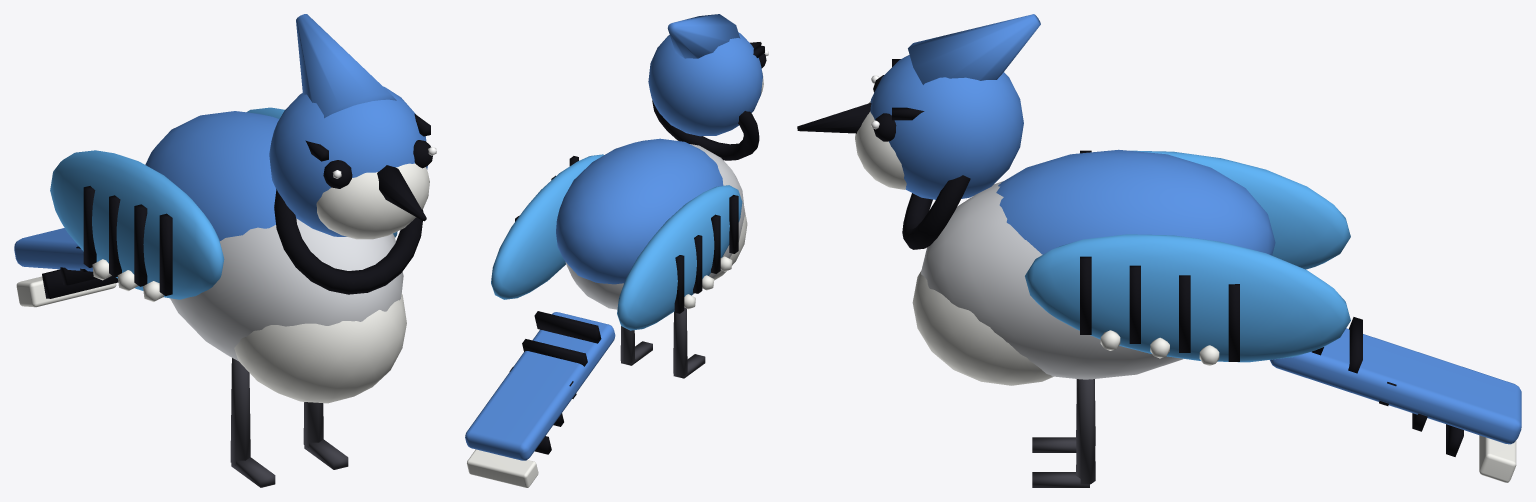
Rendered from bluejay.glb.
3 renders of one model, left to right at view 1: azimuth 30°, elevation 25°; view 2: azimuth 150°, elevation 25°; view 3: azimuth 270°, elevation 25°, orthographic. The views are drawn at different scales.
Visible parts, largest first — view 1: jay_body, jay_wingm, jay_back, jay_headm, jay_belly, jay_crest, jay_face, jay_necklace, jay_tailm, jay_leg, jay_bill, jay_ttip (+9 smaller); view 2: jay_back, jay_tailm, jay_headm, jay_wingm, jay_wingm.001, jay_crest, jay_necklace, jay_body, jay_ttip, jay_tbar, jay_leg, jay_tbar.001 (+5 smaller); view 3: jay_wingm.001, jay_back, jay_body, jay_headm, jay_tailm, jay_wingm, jay_belly, jay_crest, jay_necklace, jay_face, jay_leg.001, jay_ttip (+6 smaller).
Part boxes in pixels (box(x1,y1,x2,y2)): jay_body: box(170, 218, 403, 361); jay_wingm: box(50, 150, 224, 299); jay_back: box(145, 111, 279, 240); jay_headm: box(269, 86, 427, 236); jay_belly: box(234, 293, 406, 403); jay_crest: box(296, 14, 396, 118); jay_face: box(316, 163, 429, 239); jay_necklace: box(274, 189, 423, 294); jay_tailm: box(14, 228, 92, 271); jay_leg: box(230, 358, 250, 465); jay_bill: box(377, 165, 426, 221); jay_ttip: box(16, 276, 116, 307); jay_back: box(556, 138, 723, 284); jay_tailm: box(465, 312, 615, 460); jay_headm: box(648, 32, 762, 136); jay_wingm: box(617, 185, 742, 330); jay_wingm.001: box(491, 154, 603, 299); jay_crest: box(667, 14, 740, 58); jay_necklace: box(652, 100, 759, 160); jay_body: box(565, 144, 744, 309); jay_ttip: box(467, 449, 538, 487); jay_tbar: box(534, 311, 601, 343); jay_leg: box(673, 307, 687, 376); jay_tbar.001: box(522, 339, 587, 366); jay_wingm.001: box(1025, 234, 1350, 362); jay_back: box(996, 149, 1275, 255); jay_body: box(921, 181, 1183, 379); jay_headm: box(870, 55, 1023, 199); jay_tailm: box(1270, 328, 1521, 444); jay_wingm: box(1130, 150, 1350, 269); jay_belly: box(912, 271, 1053, 385); jay_crest: box(908, 14, 1040, 84); jay_necklace: box(902, 175, 970, 249); jay_face: box(855, 101, 906, 189); jay_leg.001: box(1076, 379, 1095, 484); jay_ttip: box(1479, 435, 1516, 482).
Size of the model in its own units: 0.329 by 0.6051 by 0.8783.
